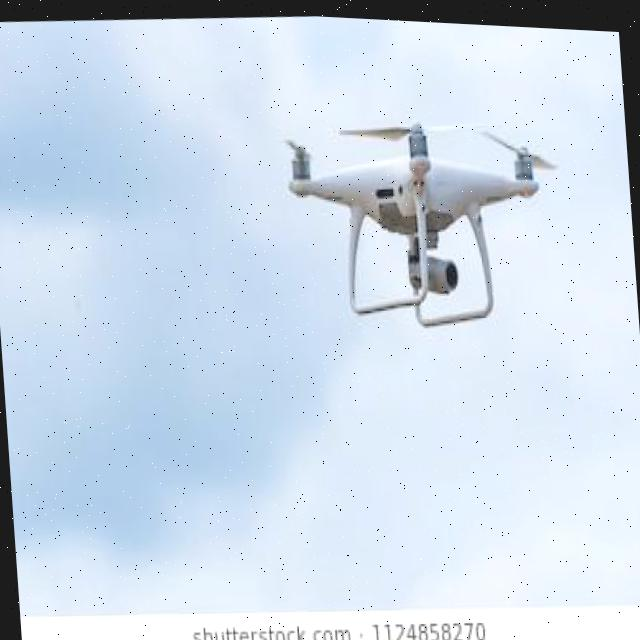drone: (270, 64, 584, 373)
